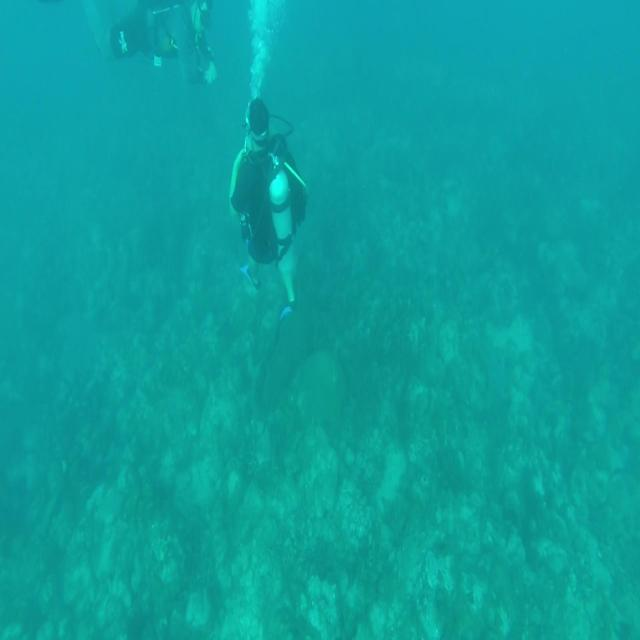human: (228, 96, 308, 320), (108, 0, 217, 85)
